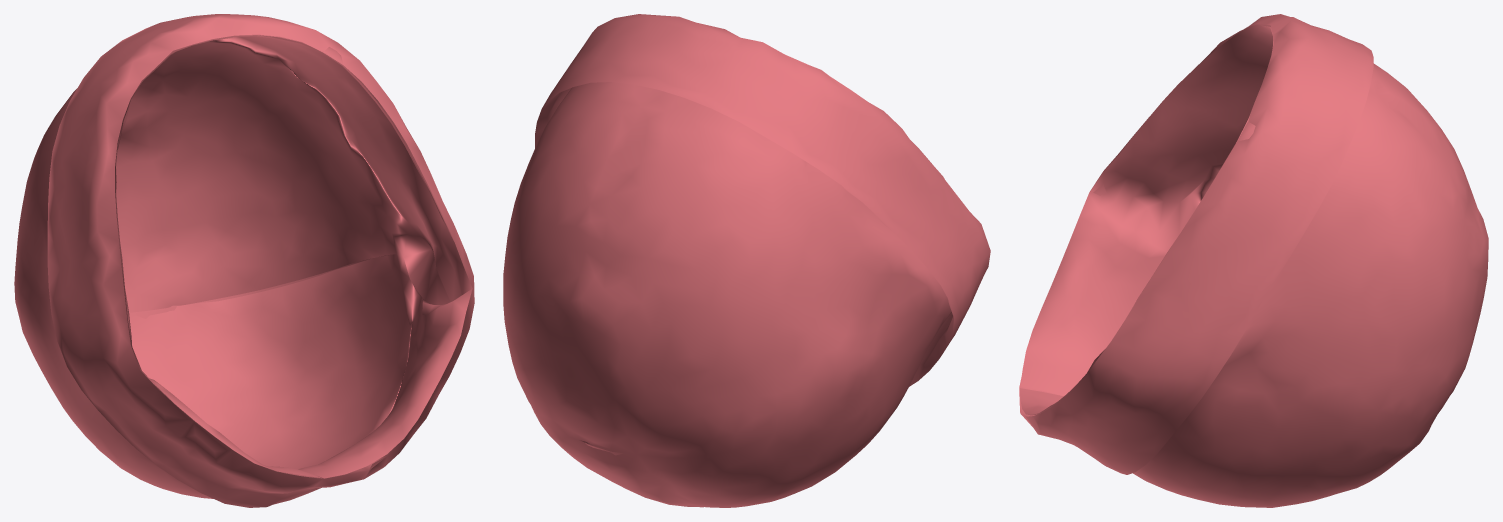
File: female_skn_sPcSy4I.glb
3 views of the same model, side by side, from view 1: azimuth 30°, elevation 25°; view 2: azimuth 150°, elevation 25°; view 3: azimuth 270°, elevation 25° (orthographic). The views are drawn at different scales.
Visible parts, largest first — view 1: female_skn; view 2: female_skn; view 3: female_skn.
Part boxes in pixels (x1=…): female_skn: x1=14, y1=14, x2=474, y2=507; female_skn: x1=503, y1=14, x2=990, y2=507; female_skn: x1=1019, y1=14, x2=1488, y2=507.
Bounding box in the file's own units: 0.178 × 0.1999 × 0.1867.
